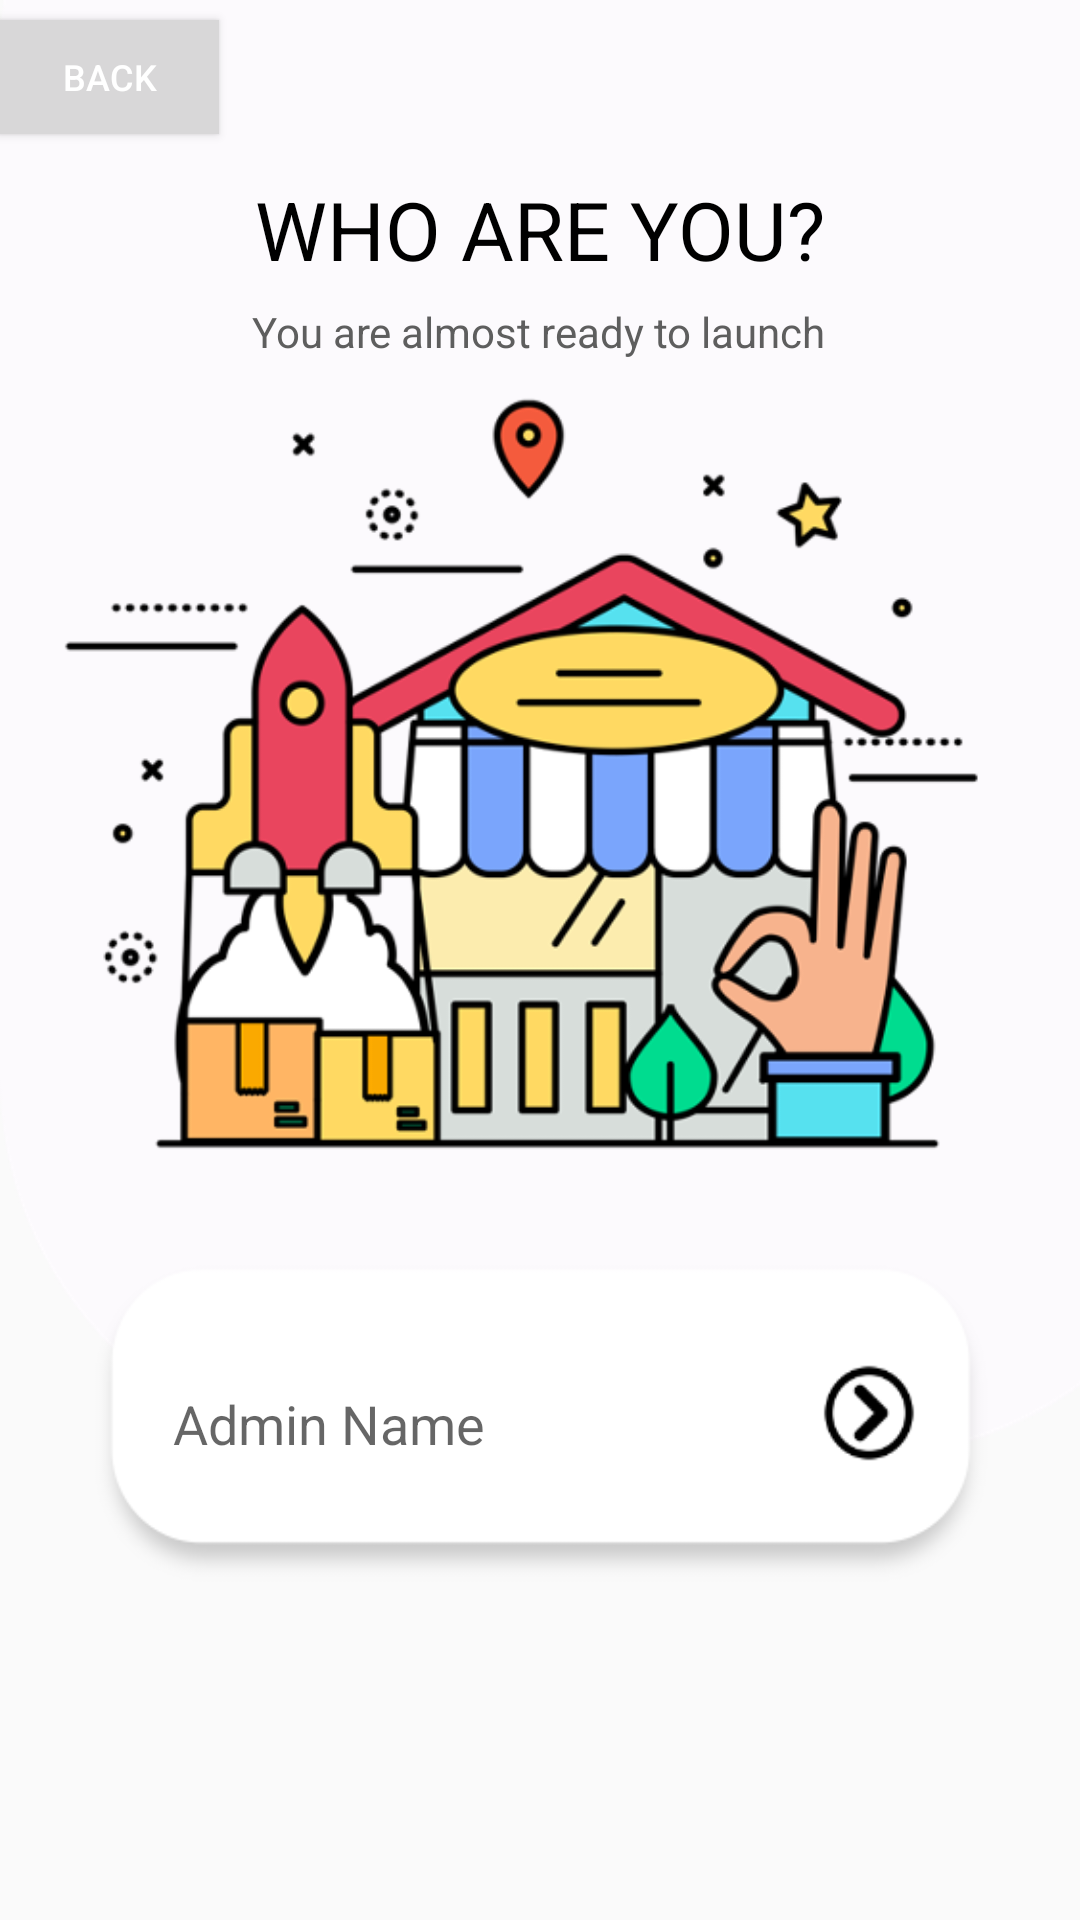

Screen size 1080 x 1920. Icon name, then its center in pixels as [x,y]:
forwardbtn: [869,1413]
